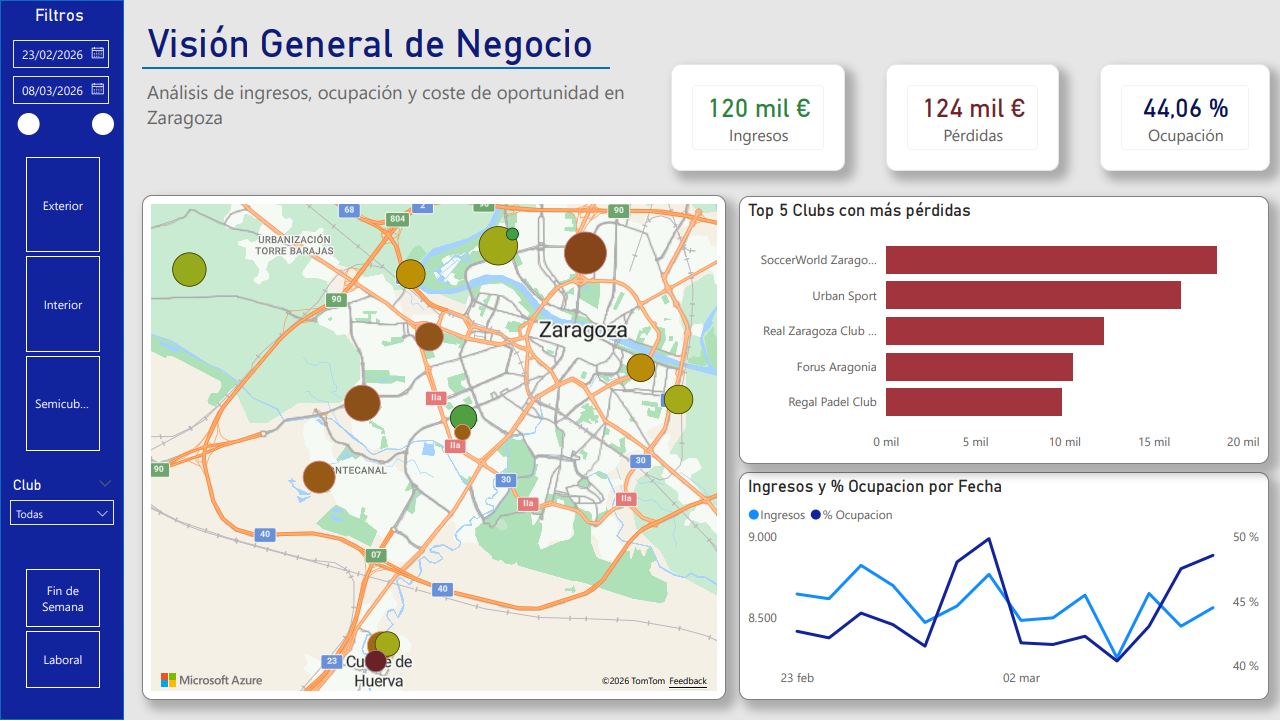

The page's visual inventory and layout, read from the dashboard file:
{"tool":"powerbi","page":{"name":"Visión General","canvas":[1280,720],"ordinal":0},"visuals":[{"type":"azureMap","fields":{"Category":["public reservas_padel.Coordenadas"],"Size":["Sum(public reservas_padel.Ingreso_Generado)"]},"box":[142.1,195.1,584.2,505.2],"z":0},{"type":"lineChart","fields":{"Category":["public reservas_padel.Fecha.Variación.Jerarquía de fechas.Día"],"Y":["Sum(public reservas_padel.Ingreso_Generado)"],"Y2":["public reservas_padel.% Ocupacion Real"]},"box":[739,472,530,228],"z":1000},{"type":"cardVisual","fields":{"Data":["Sum(public reservas_padel.Ingreso_Generado)"]},"box":[671,64.3,173.7,107.1],"z":2000},{"type":"cardVisual","fields":{"Data":["Sum(public reservas_padel.Lost Revenue)"]},"box":[886.4,64.3,172.5,107.1],"z":3000},{"type":"cardVisual","fields":{"Data":["public reservas_padel.% Ocupacion Real"]},"box":[1099.6,64.3,170.3,107.1],"z":4000},{"type":"barChart","title":"Top 5 Clubs con más pérdidas","fields":{"Category":["public reservas_padel.Club"],"Y":["Sum(public reservas_padel.Lost Revenue)"]},"box":[739.2,195.5,530.1,268.4],"z":5000},{"type":"shape","title":"Filtros","box":[0,0,123.9,719.9],"z":6000},{"type":"slicer","fields":{"Values":["Calendario.Date"]},"box":[0,29.7,123.9,128],"z":7000},{"type":"slicer","fields":{"Values":["public vw_kpi_diario_club.Club"]},"box":[0,472,124,73.1],"z":8000},{"type":"slicer","fields":{"Values":["public reservas_padel.Tipo_Pista"]},"box":[0,149.9,124,308.2],"z":9000},{"type":"slicer","fields":{"Values":["public reservas_padel.Tipo de Dia"]},"box":[0,561.8,124,133.3],"z":10000},{"type":"textbox","box":[29.6,0,63.9,32.4],"z":11000},{"type":"textbox","box":[142.1,15.8,512,77.8],"z":12000},{"type":"textbox","box":[142.1,74.4,496.2,64.3],"z":13000},{"type":"shape","box":[142.1,29.3,468,77.8],"z":14000}]}

Visuals, with their boxes in screenshot pixels (x1, y1, x2, y2), scaled from the page's 1280x720 canvas onto the 1281x721 screenshot:
azureMap - public reservas_padel.Coordenadas x Sum(public reservas_padel.Ingreso_Generado): left=142, top=195, right=727, bottom=701
lineChart - public reservas_padel.Fecha.Variación.Jerarquía de fechas.Día x Sum(public reservas_padel.Ingreso_Generado): left=740, top=473, right=1270, bottom=701
cardVisual - Sum(public reservas_padel.Ingreso_Generado): left=672, top=64, right=845, bottom=172
cardVisual - Sum(public reservas_padel.Lost Revenue): left=887, top=64, right=1060, bottom=172
cardVisual - public reservas_padel.% Ocupacion Real: left=1100, top=64, right=1271, bottom=172
"Top 5 Clubs con más pérdidas" barChart: left=740, top=196, right=1270, bottom=465
"Filtros" shape: left=0, top=0, right=124, bottom=720
slicer - Calendario.Date: left=0, top=30, right=124, bottom=158
slicer - public vw_kpi_diario_club.Club: left=0, top=473, right=124, bottom=546
slicer - public reservas_padel.Tipo_Pista: left=0, top=150, right=124, bottom=459
slicer - public reservas_padel.Tipo de Dia: left=0, top=563, right=124, bottom=696
textbox: left=30, top=0, right=94, bottom=32
textbox: left=142, top=16, right=655, bottom=94
textbox: left=142, top=75, right=639, bottom=139
shape: left=142, top=29, right=611, bottom=107
